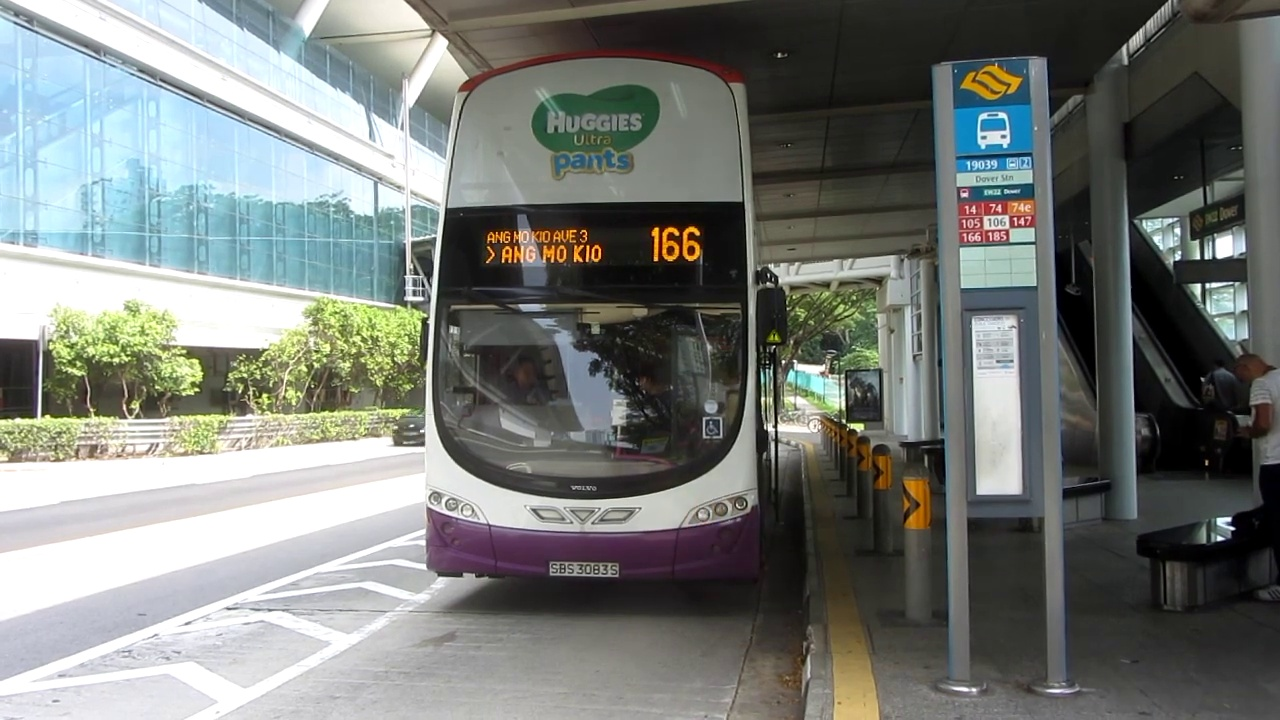bus panel: (479, 223, 709, 267)
